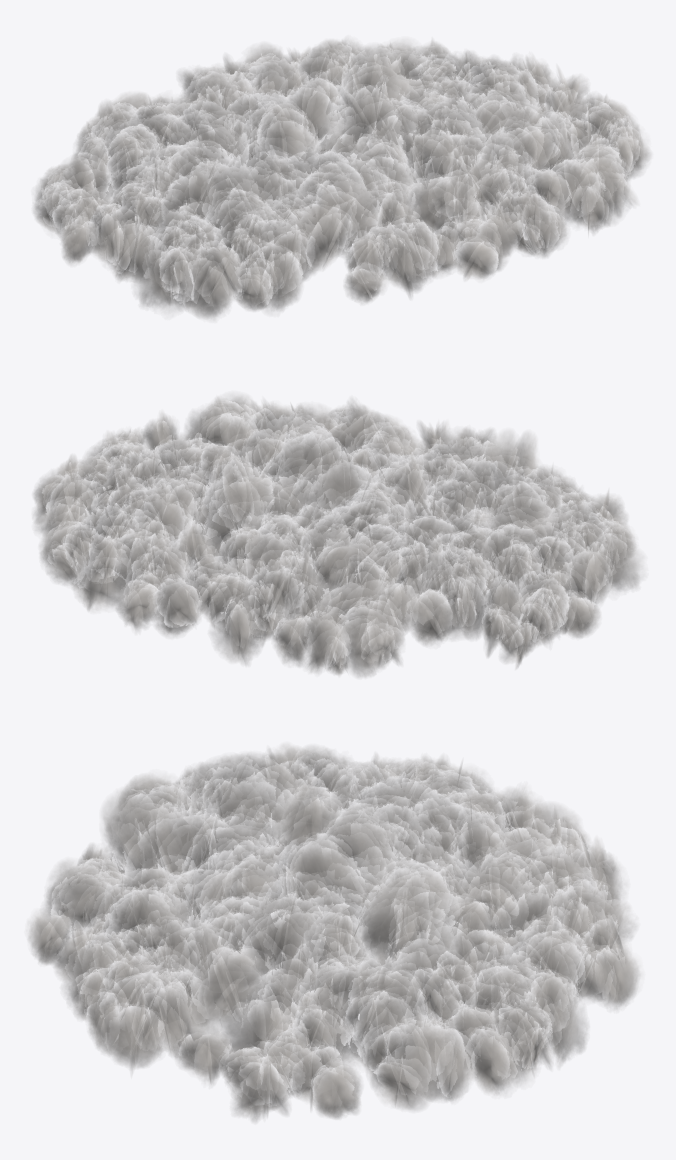
File: ash_umbrella.glb
3 views of the same model, one above another, from view 1: azimuth 30°, elevation 25°; view 2: azimuth 150°, elevation 25°; view 3: azimuth 270°, elevation 25° (orthographic). The views are drawn at different scales.
Bounding box in the file's own units: 260 × 79.01 × 215.
1 material, 1 textured.
